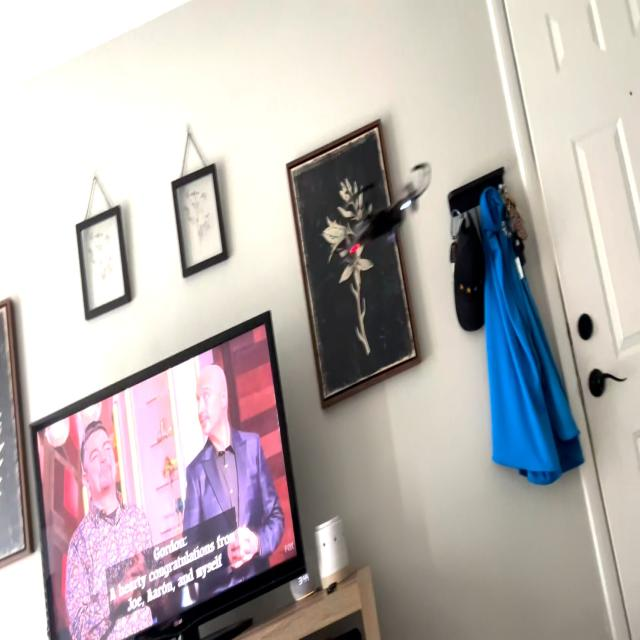drone: (326, 155, 438, 268)
